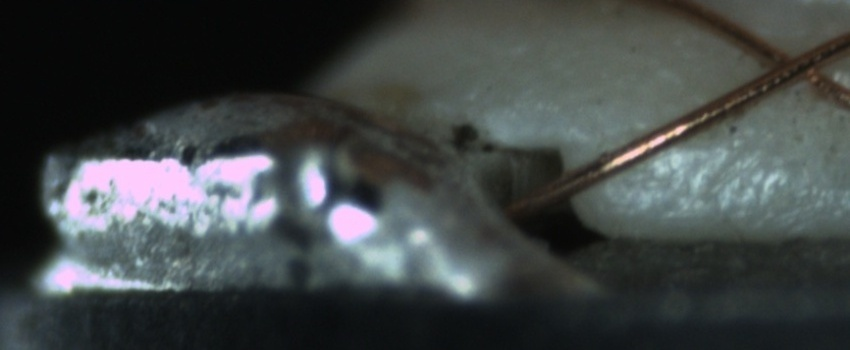CL: (748, 31, 840, 94)
